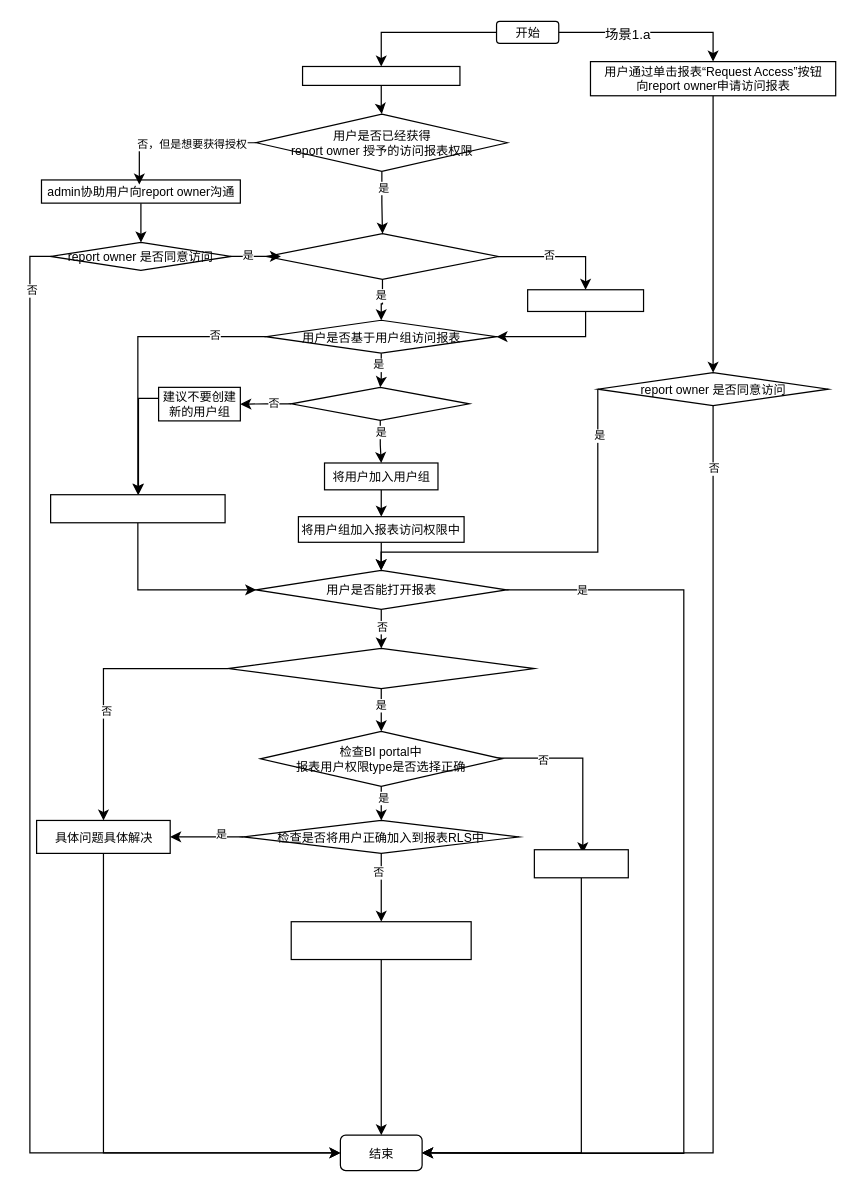
Image size: 858x1192. Some labels were removed from this diagram. The centre of each missing label's shape, as x and y in pixels:
"admin检查 BI Portal中是否已经存在该报表" belongs at point (381, 255).
"修改权限配置" belongs at point (580, 863).
"因为数据权限没有获取导致打不开报表" belongs at point (380, 668).
"在BI Portal 创建报表" belongs at point (585, 300).
"将用户直接加入报表访问权限中" belongs at point (137, 508).
"按照每张报表管控RLS的方法，将对应用户的数据权限加入" belongs at point (380, 940).
"新报表是否已经有合适的用户组" belongs at point (379, 403).
"用户向admin申请访问报表" belongs at point (380, 75).
